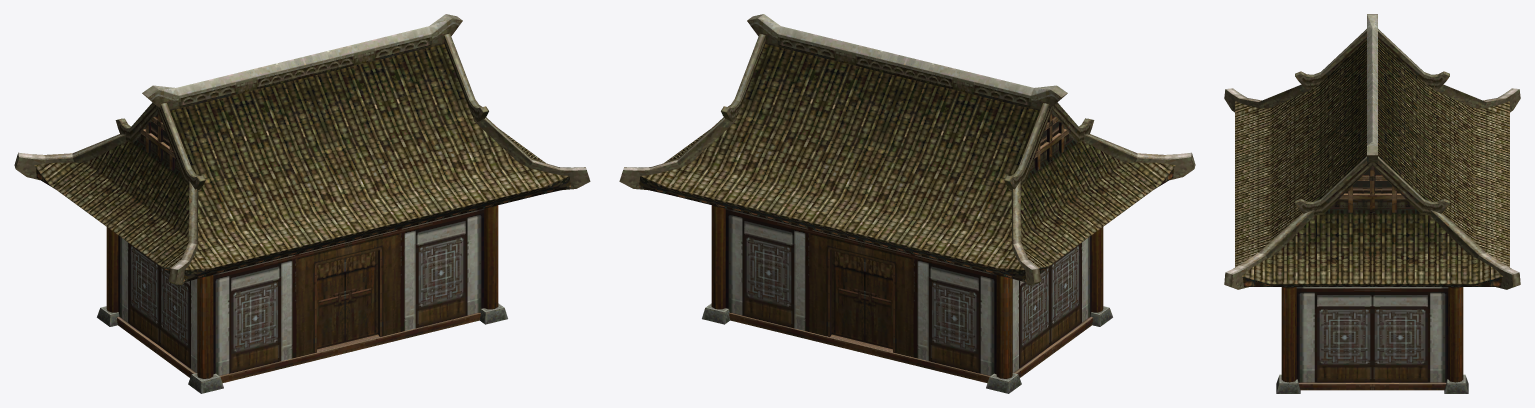
The model's file is nsm-016-house9.fbx.
The picture shows the model from 3 angles, left to right: view 1: azimuth 30°, elevation 25°; view 2: azimuth 150°, elevation 25°; view 3: azimuth 270°, elevation 25°; orthographic projection. The views are drawn at different scales.
Visible parts, largest first — view 1: b1-016-house9; view 2: b1-016-house9; view 3: b1-016-house9.
Part boxes in pixels (<box>): b1-016-house9: <box>14,14,590,393</box>; b1-016-house9: <box>619,14,1195,393</box>; b1-016-house9: <box>1224,14,1520,393</box>.
Size of the model in its own units: 11.71 by 7.08 by 7.76.
